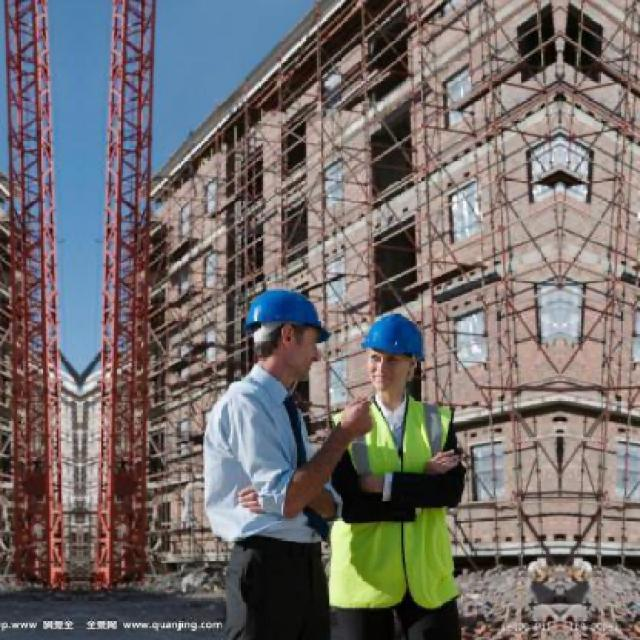Reflective-Jacket: (323, 391, 469, 617)
Safety-Helmet: (231, 280, 337, 348), (354, 304, 435, 370)
